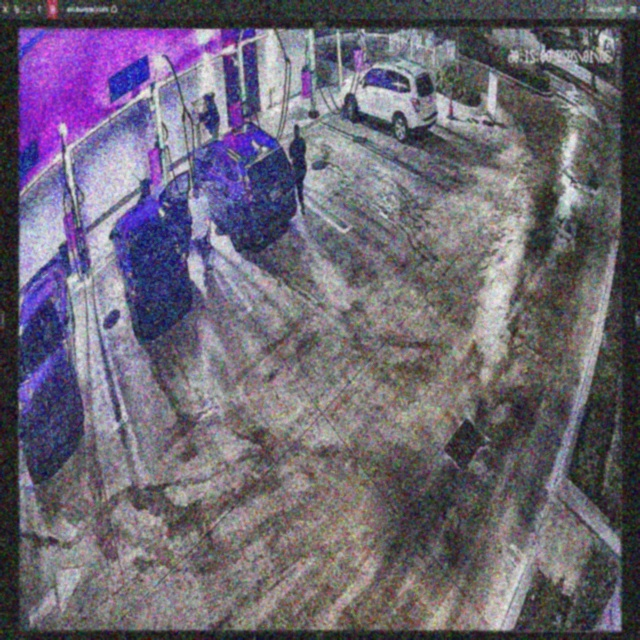Car: (112, 174, 192, 335), (191, 123, 293, 244)
